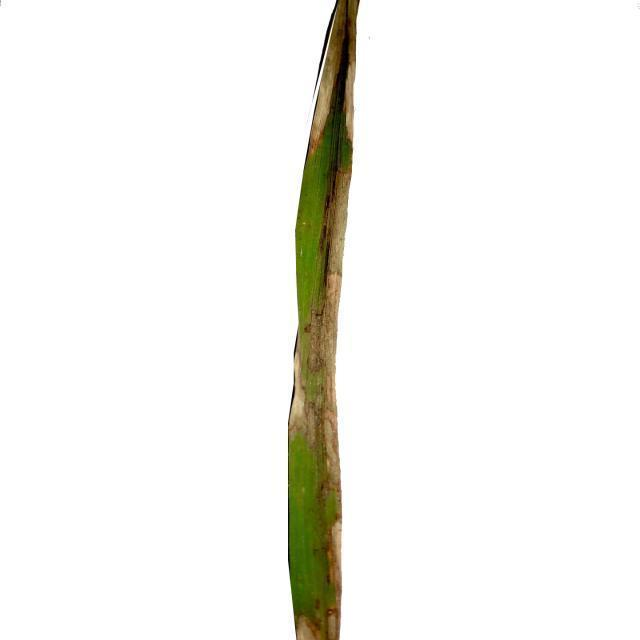Bacterial_Leaf_Blight: (304, 2, 369, 157), (289, 322, 347, 430), (322, 147, 349, 318), (320, 420, 344, 593), (295, 601, 342, 640)
